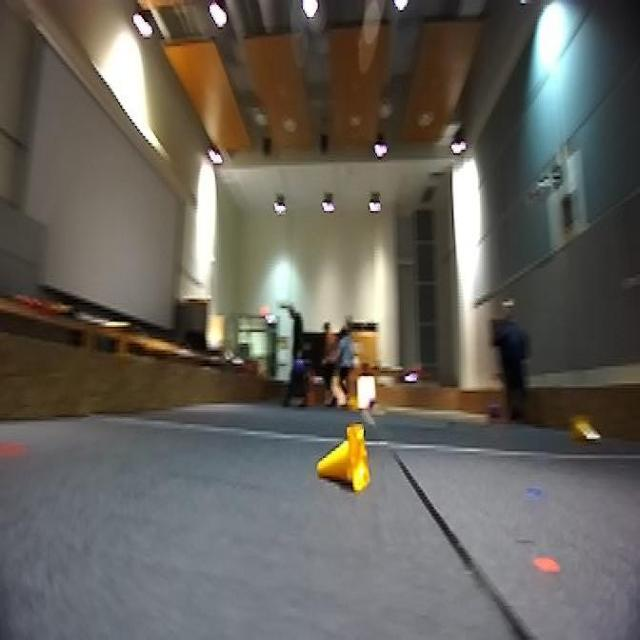frc_cone: (317, 426, 375, 496)
